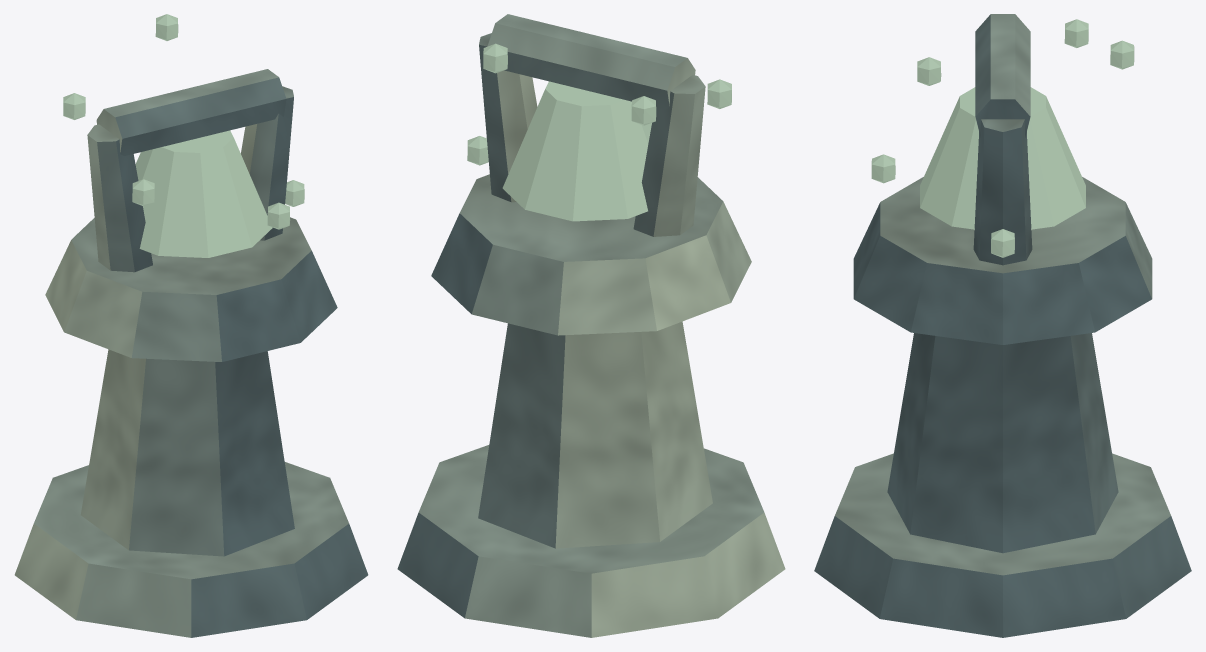
Rendered from resonance_moor_lit.glb.
3 views of the same model, side by side, from view 1: azimuth 30°, elevation 25°; view 2: azimuth 150°, elevation 25°; view 3: azimuth 270°, elevation 25° (orthographic). The views are drawn at different scales.
Parts seen in each view (by area): view 1: Klangstein moor · wach; view 2: Klangstein moor · wach; view 3: Klangstein moor · wach.
Boxes of the visible parts, box(x1,y1,x2,y2) form: Klangstein moor · wach: box(14, 14, 368, 637); Klangstein moor · wach: box(397, 14, 785, 637); Klangstein moor · wach: box(814, 14, 1191, 637).
Bounding box in the file's own units: 1.07 × 1.69 × 1.08.
2 materials, 1 textured.
